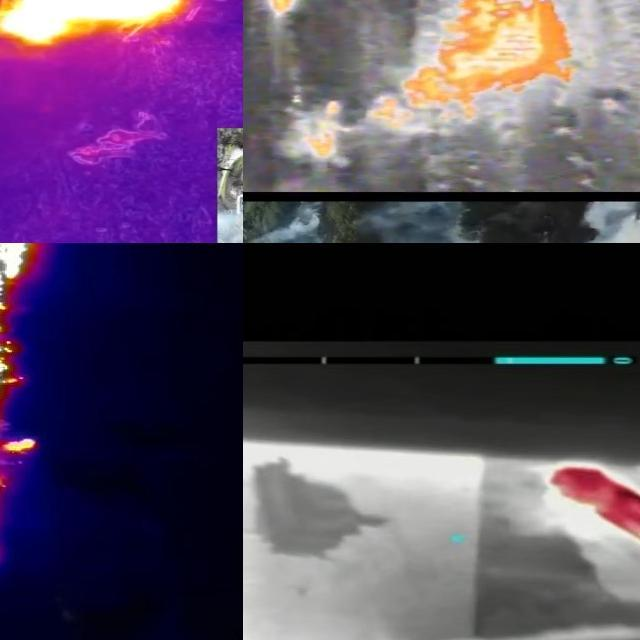fire: (368, 1, 577, 126), (542, 465, 640, 578), (1, 242, 41, 470), (1, 1, 190, 45), (300, 99, 355, 162), (256, 1, 321, 17)
